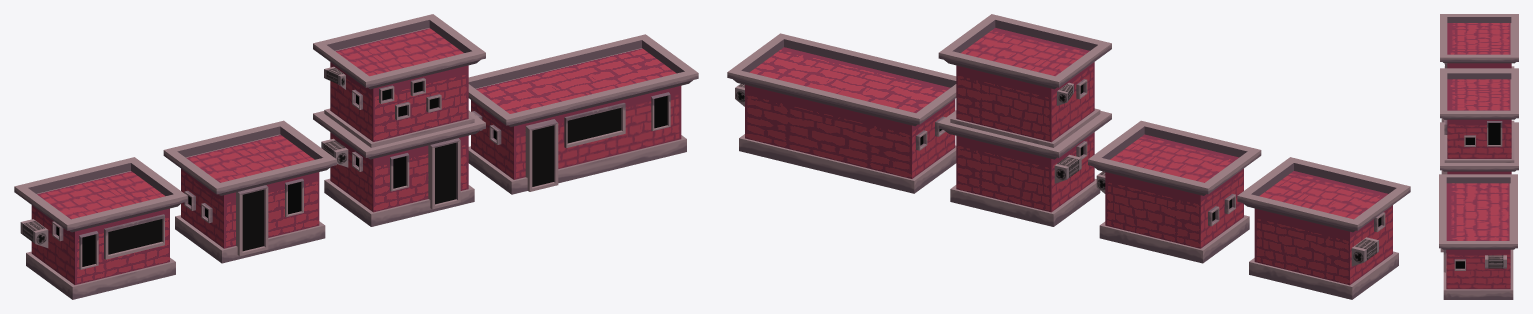
Rendered from buildings.fbx.
The picture shows the model from 3 angles, left to right: view 1: azimuth 30°, elevation 25°; view 2: azimuth 150°, elevation 25°; view 3: azimuth 270°, elevation 25°; orthographic projection. The views are drawn at different scales.
Visible parts, largest first — view 1: building_tall, building_wide, building_a, building_b; view 2: building_tall, building_wide, building_b, building_a; view 3: building_wide, building_tall, building_a, building_b.
Part boxes in pixels (bbox=[...]): building_tall: bbox=[313, 14, 485, 226]; building_wide: bbox=[468, 34, 698, 194]; building_a: bbox=[14, 157, 187, 299]; building_b: bbox=[163, 120, 336, 263]; building_tall: bbox=[938, 14, 1111, 226]; building_wide: bbox=[727, 33, 956, 193]; building_b: bbox=[1088, 120, 1261, 263]; building_a: bbox=[1237, 157, 1410, 299]; building_wide: bbox=[1439, 174, 1517, 299]; building_tall: bbox=[1440, 70, 1518, 174]; building_a: bbox=[1440, 14, 1518, 68]; building_b: bbox=[1440, 68, 1518, 122].
Size of the model in its own units: 1691 by 386 by 249.
